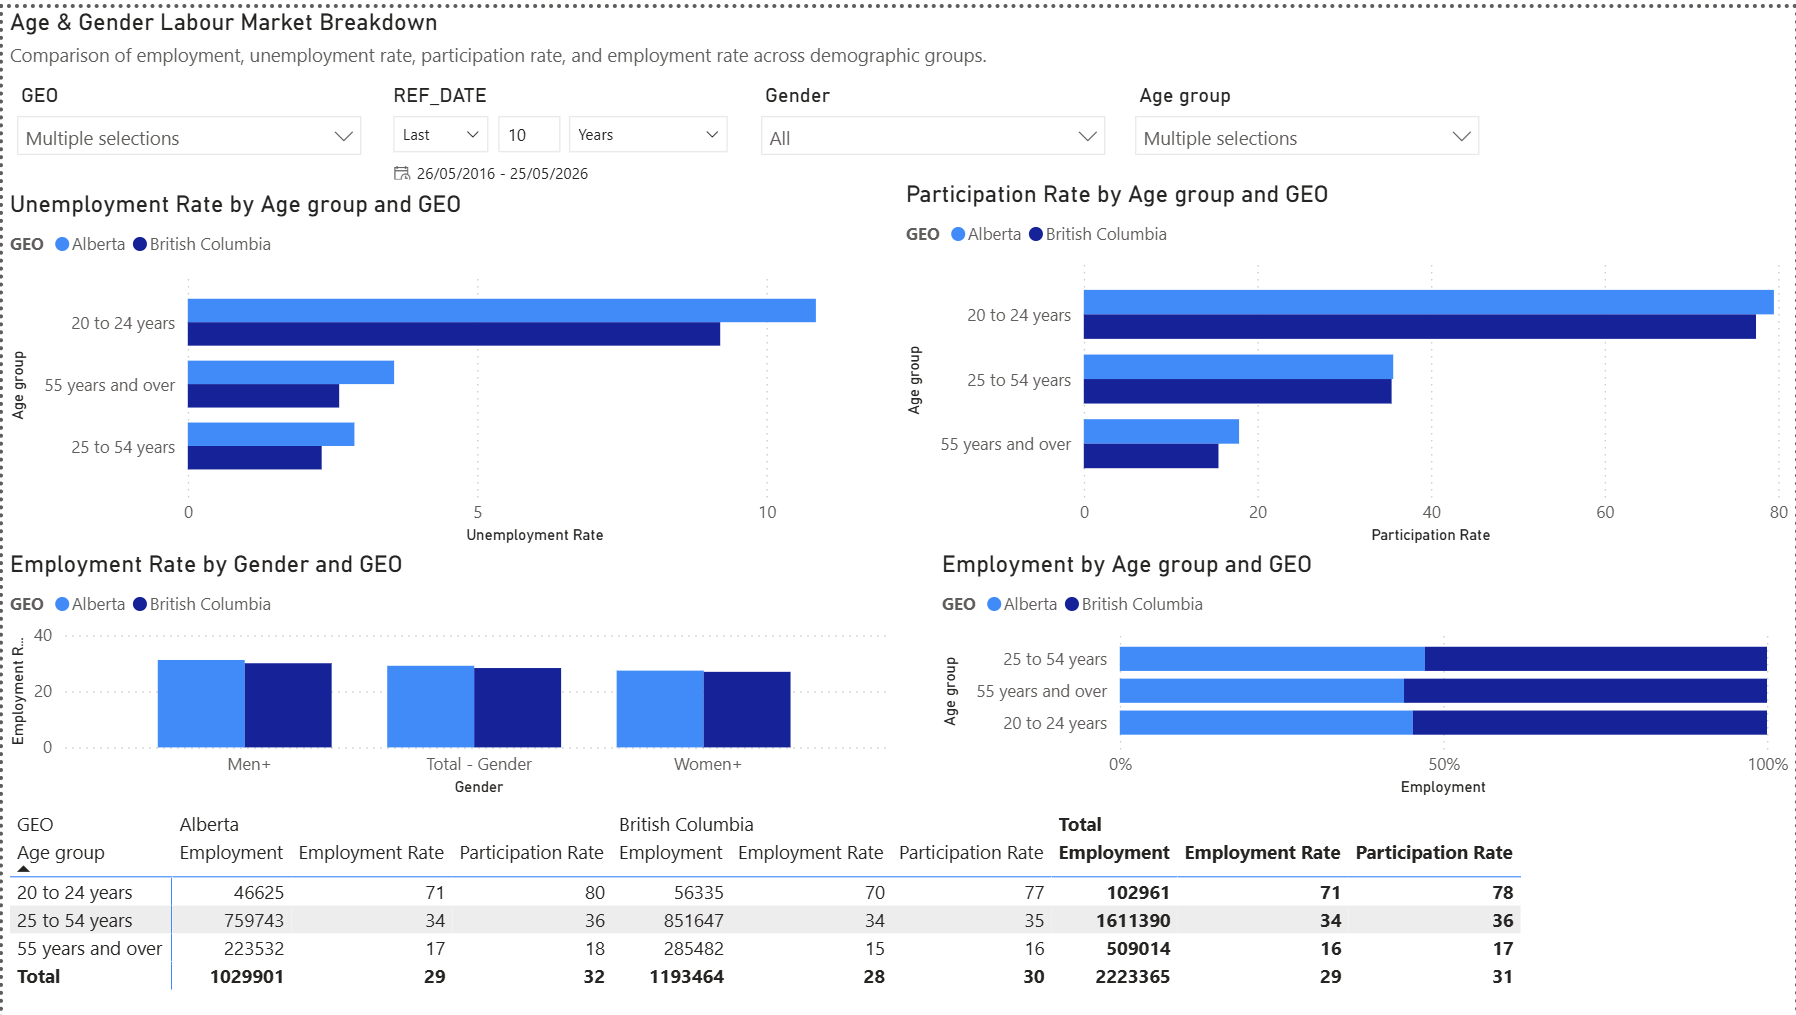

This screenshot's page, from the dashboard's own definition file:
{"tool":"powerbi","page":{"name":"Page 2","canvas":[1280,720],"ordinal":1},"visuals":[{"type":"textbox","title":"Age & Gender Labour Market Breakdown","box":[0,0,948,48],"z":0},{"type":"slicer","fields":{"Values":["14100287.GEO"]},"box":[0,48,266,74],"z":1000},{"type":"slicer","fields":{"Values":["14100287.REF_DATE"]},"box":[266,48,266,74],"z":2000},{"type":"slicer","fields":{"Values":["14100287.Age group"]},"box":[798,48,266,74],"z":3000},{"type":"slicer","fields":{"Values":["14100287.Gender"]},"box":[532,48,266,74],"z":4000},{"type":"clusteredBarChart","fields":{"Category":["14100287.Age group"],"Y":["14100287.Unemployment Rate"],"Series":["14100287.GEO"]},"box":[0,130,640,257.1],"z":5000},{"type":"clusteredBarChart","fields":{"Category":["14100287.Age group"],"Series":["14100287.GEO"],"Y":["14100287.Participation Rate"]},"box":[640,122.9,640,264.3],"z":6000},{"type":"clusteredColumnChart","fields":{"Category":["14100287.Gender"],"Y":["14100287.Employment Rate"],"Series":["14100287.GEO"]},"box":[0,387.1,640,180],"z":7000},{"type":"hundredPercentStackedBarChart","fields":{"Category":["14100287.Age group"],"Y":["14100287.Employment"],"Series":["14100287.GEO"]},"box":[665.7,387.1,614.3,180],"z":8000},{"type":"pivotTable","fields":{"Rows":["14100287.Age group"],"Columns":["14100287.GEO"],"Values":["14100287.Employment","14100287.Employment Rate","14100287.Participation Rate"]},"box":[0,567.1,1280,152.9],"z":9000}]}

Visuals, with their boxes in screenshot pixels (x1, y1, x2, y2), scaled from the page's 1280x720 canvas onto the 1796x1015 screenshot:
"Age & Gender Labour Market Breakdown" textbox: 0:0:1330:68
slicer - 14100287.GEO: 0:68:373:172
slicer - 14100287.REF_DATE: 373:68:746:172
slicer - 14100287.Age group: 1120:68:1493:172
slicer - 14100287.Gender: 746:68:1120:172
clusteredBarChart - 14100287.Age group x 14100287.Unemployment Rate: 0:183:898:546
clusteredBarChart - 14100287.Age group x 14100287.GEO: 898:173:1795:546
clusteredColumnChart - 14100287.Gender x 14100287.Employment Rate: 0:546:898:799
hundredPercentStackedBarChart - 14100287.Age group x 14100287.Employment: 934:546:1795:799
pivotTable - 14100287.Age group x 14100287.GEO: 0:799:1795:1014
